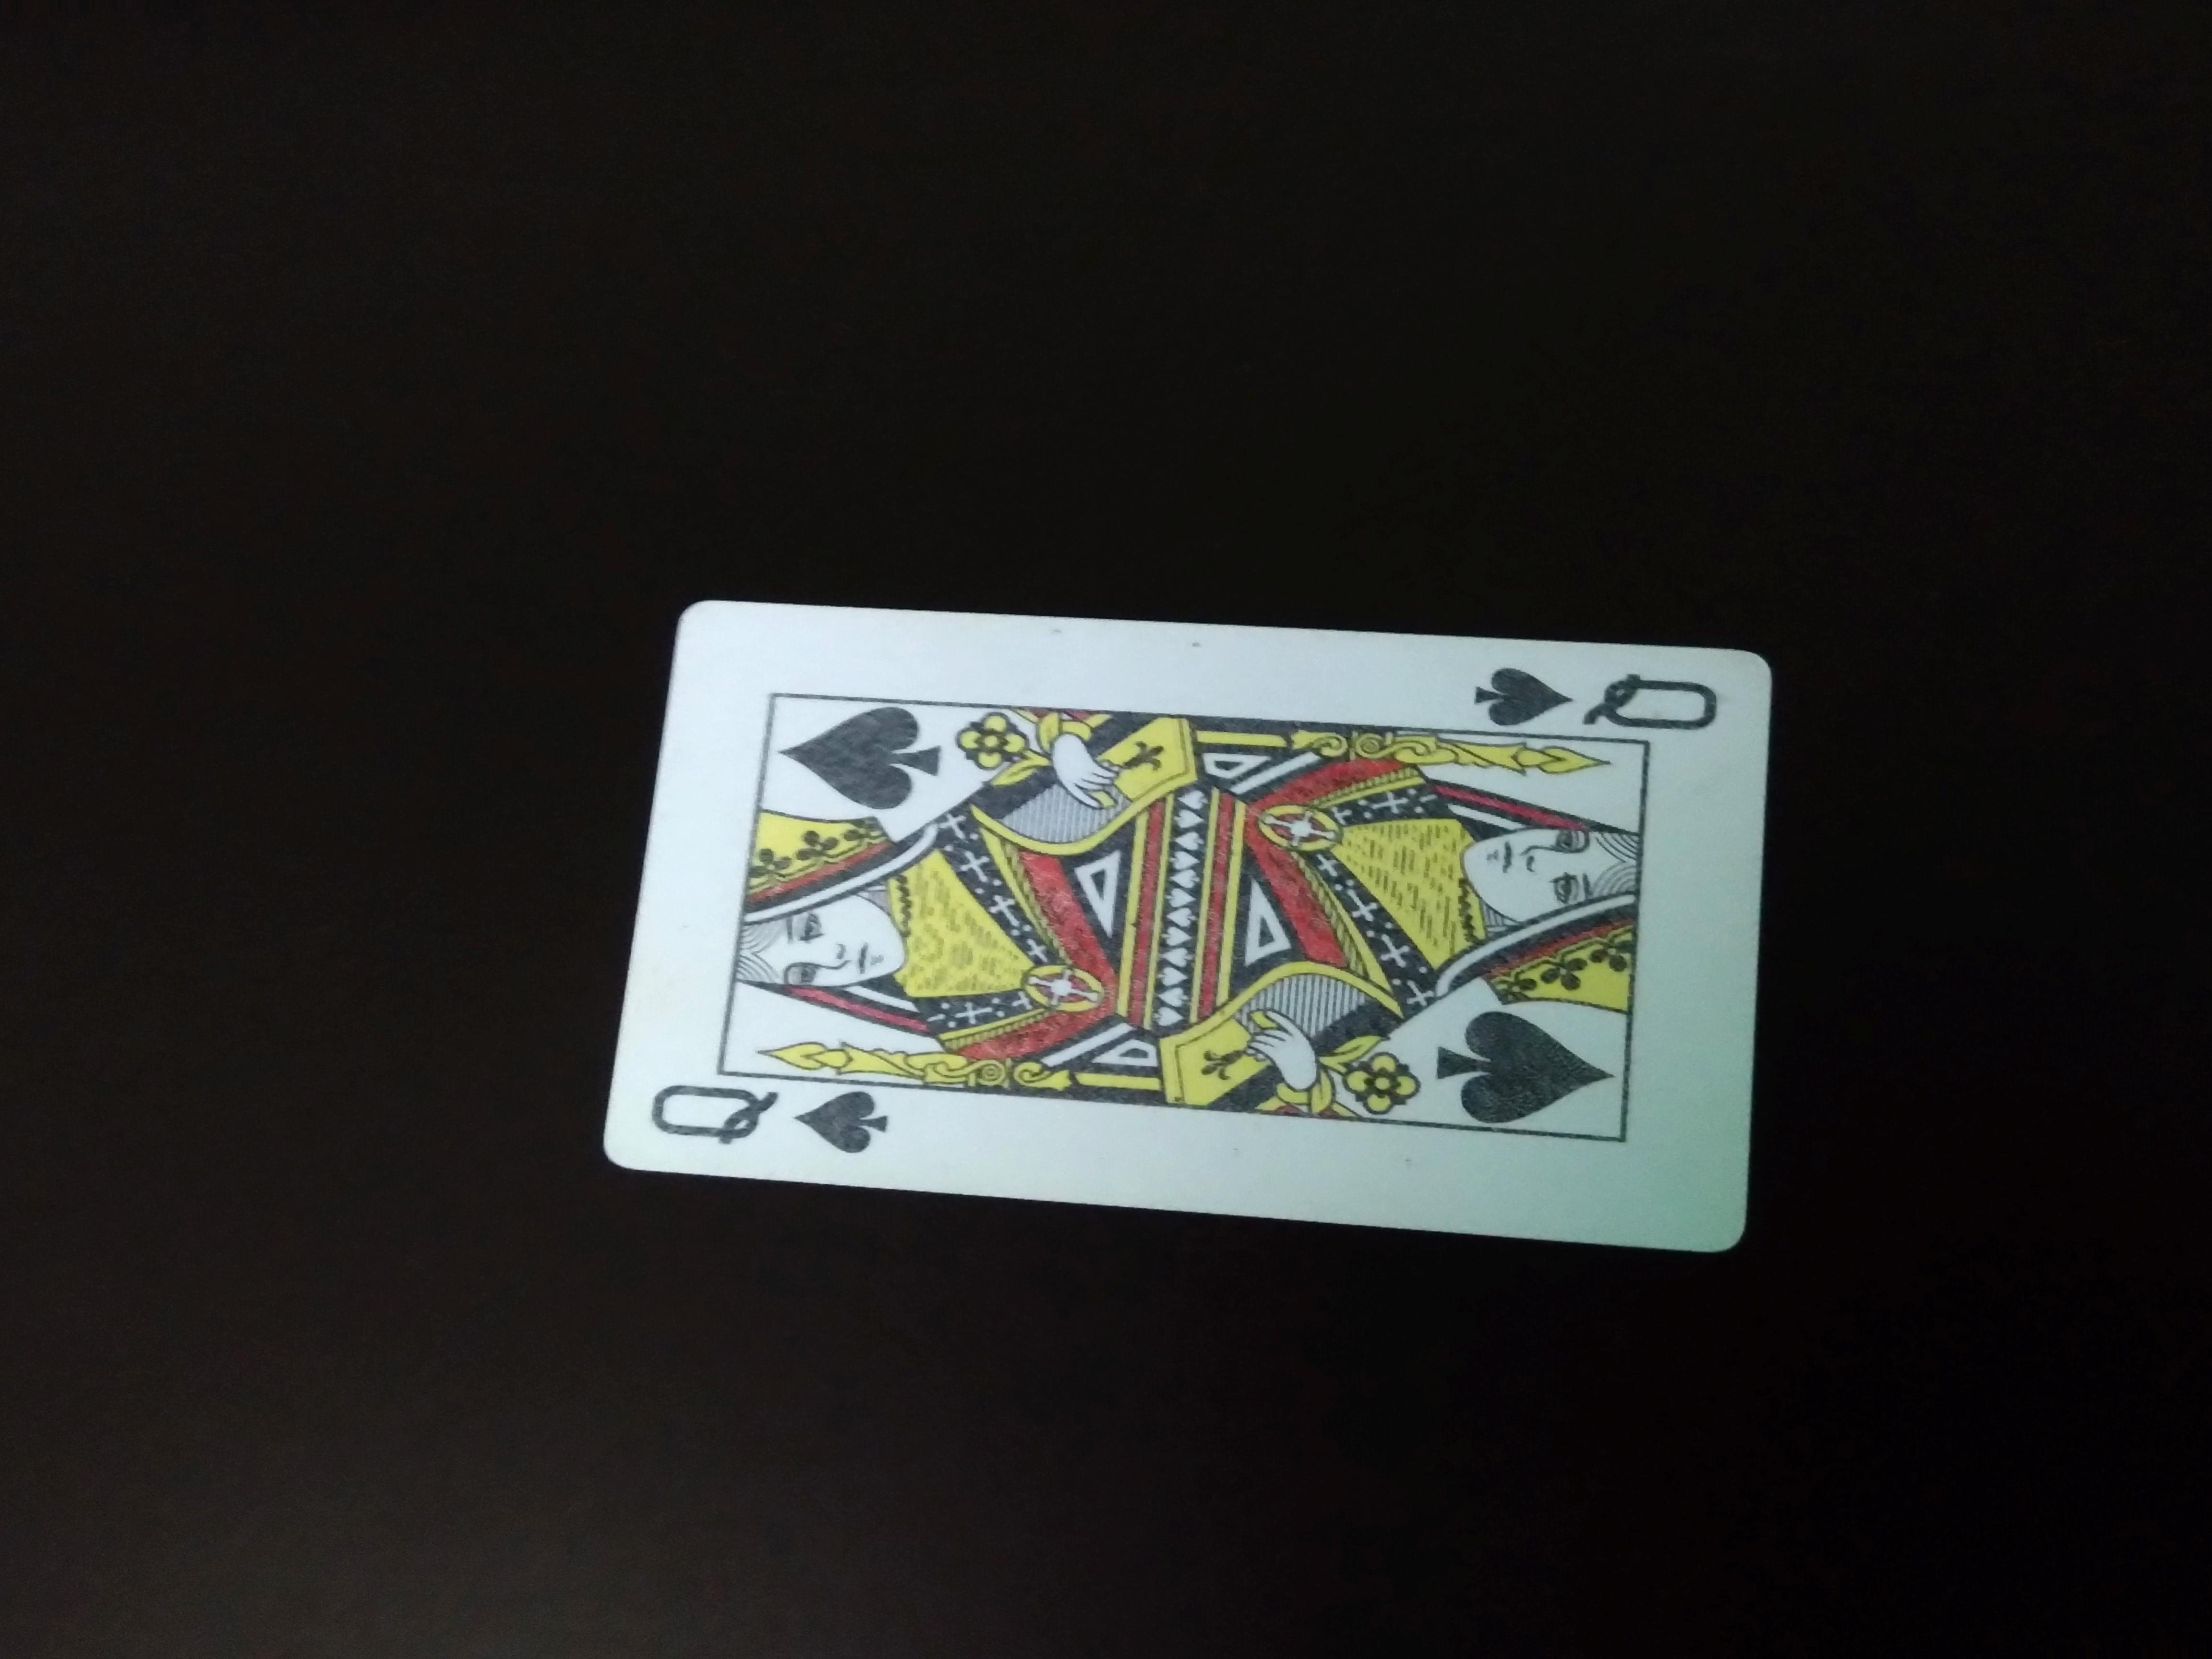QS: (636, 1049, 909, 1168)
